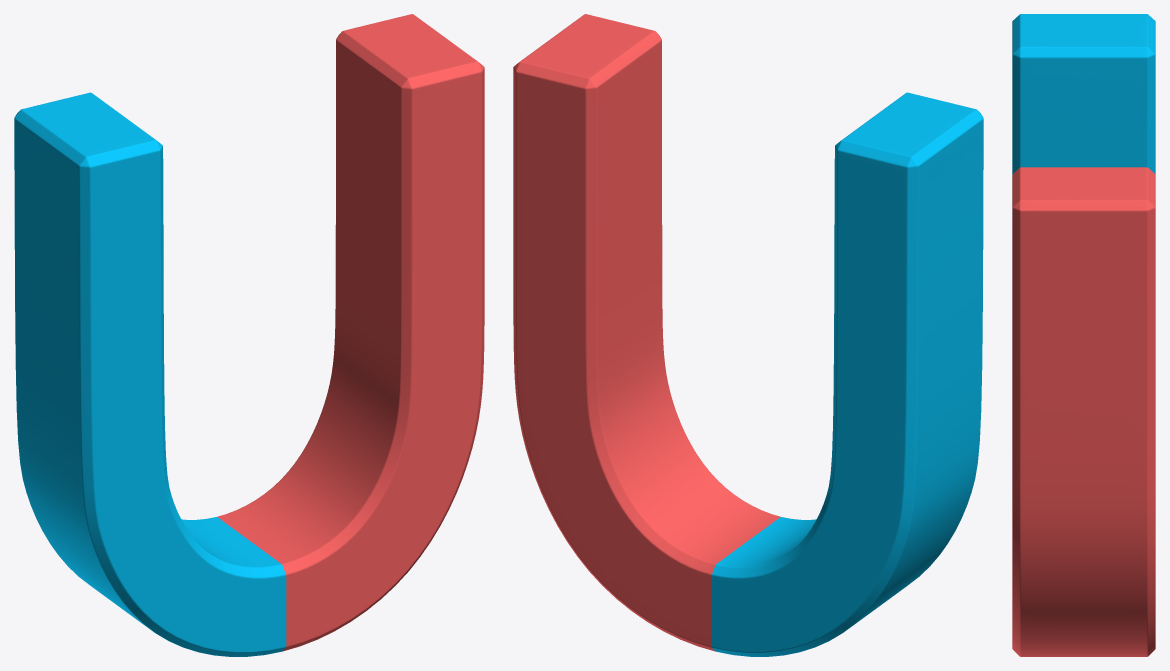
File: magnet.fbx
The picture shows the model from 3 angles, left to right: view 1: azimuth 30°, elevation 25°; view 2: azimuth 150°, elevation 25°; view 3: azimuth 270°, elevation 25°; orthographic projection. The views are drawn at different scales.
Parts seen in each view (by area): view 1: Circle.007_0; view 2: Circle.007_0; view 3: Circle.007_0.
Part boxes in pixels (x1,y1,x2,y2): Circle.007_0: (14, 14, 484, 656); Circle.007_0: (513, 14, 983, 656); Circle.007_0: (1012, 14, 1155, 656).
Bounding box in the file's own units: 549 × 701 × 172.
